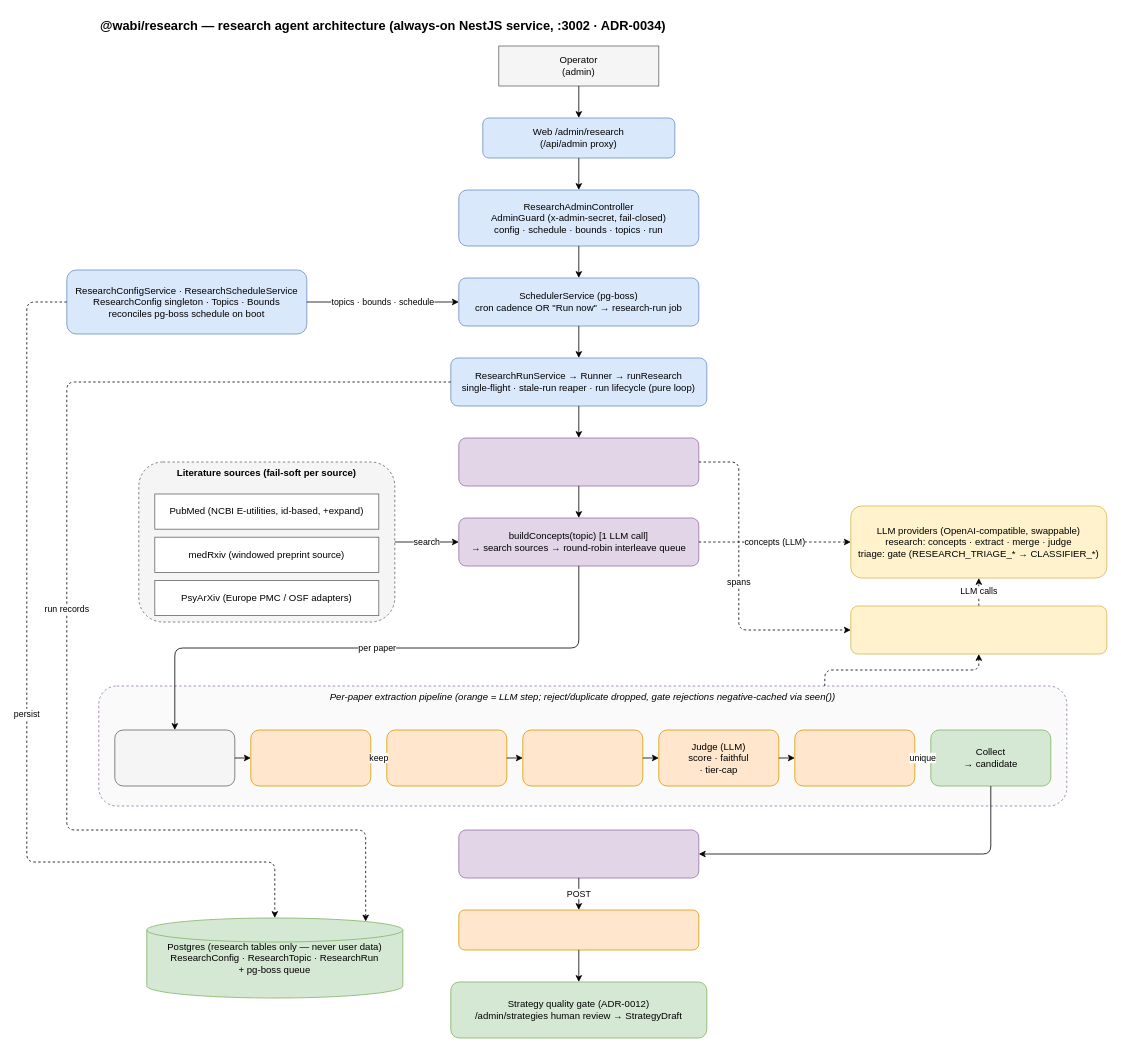
Some shapes in this 1121 by 1052 pixel diagram are drawn without their labels. The centre of each missing label's shape, as x and y in pixels:
"Bot strategy-admin ingest (trust gate)" belongs at point (578, 929).
"BotClient.submit(candidate) HTTP only · never writes DB (ADR-0033/0034)" belongs at point (578, 853).
"Dedup (LLM) vs run's kept set" belongs at point (854, 757).
"Extract (LLM) lens fan-out by evidence tier" belongs at point (446, 757).
"Gate (LLM) relevance" belongs at point (310, 757).
"Langfuse ResearchTracer → per-step spans" belongs at point (978, 629).
"Merge (LLM) collapse lenses → techniques" belongs at point (582, 757).
"Prescreen (deterministic scope policy)" belongs at point (174, 757).
"ResearchAgent.run(topic) per enabled topic · run budget + deadline" belongs at point (578, 461).
